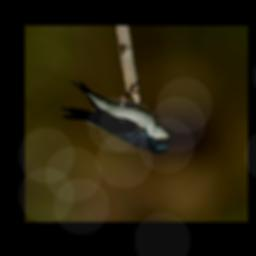Swallow: (59, 78, 175, 155)
